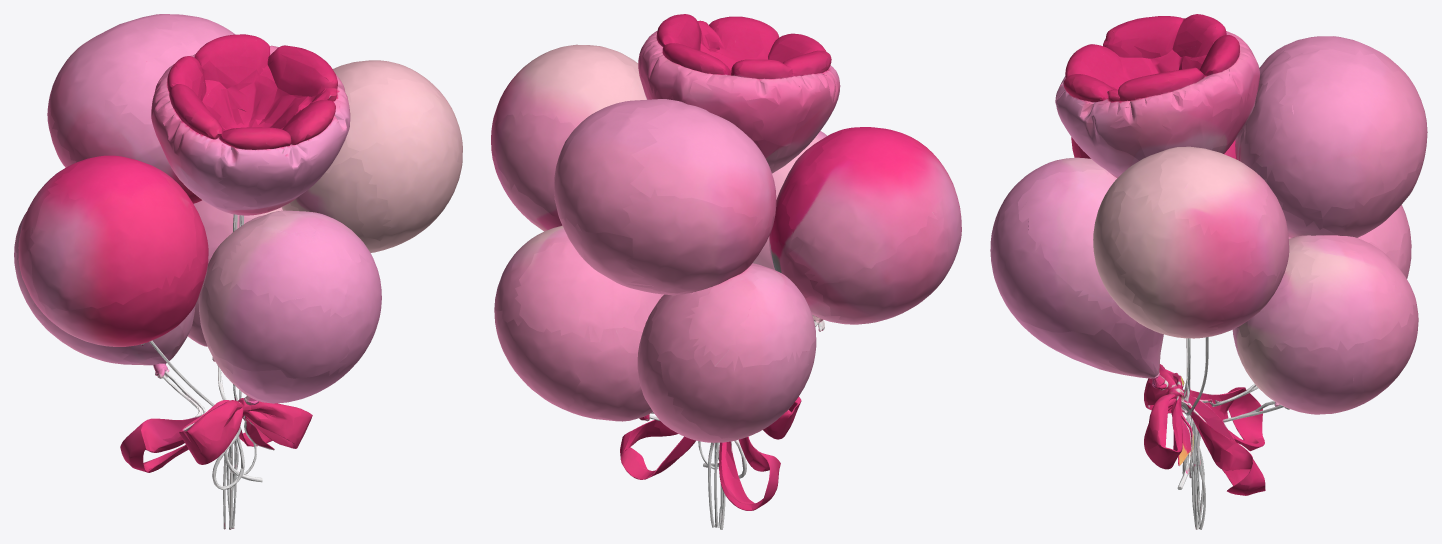
Rendered from pink-balloon-bunch-v1.glb.
3 views of the same model, side by side, from view 1: azimuth 30°, elevation 25°; view 2: azimuth 150°, elevation 25°; view 3: azimuth 270°, elevation 25° (orthographic). The views are drawn at different scales.
Bounding box in the file's own units: 1.78 × 1.9 × 1.53.
1 material, 1 textured.
